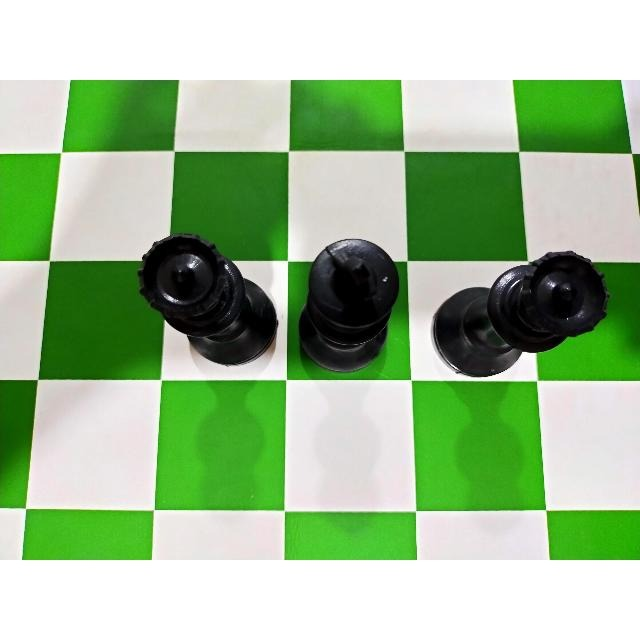black-king: (296, 232, 400, 372)
black-queen: (424, 243, 613, 383), (133, 221, 280, 369)
